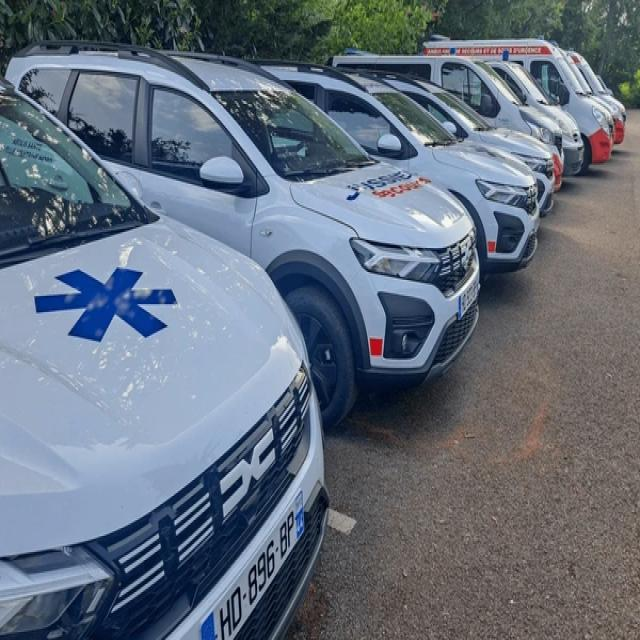dacia: (217, 423, 280, 525), (460, 238, 474, 267)
